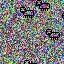sheep: (19, 7, 34, 19), (36, 0, 50, 11), (46, 30, 60, 40)
